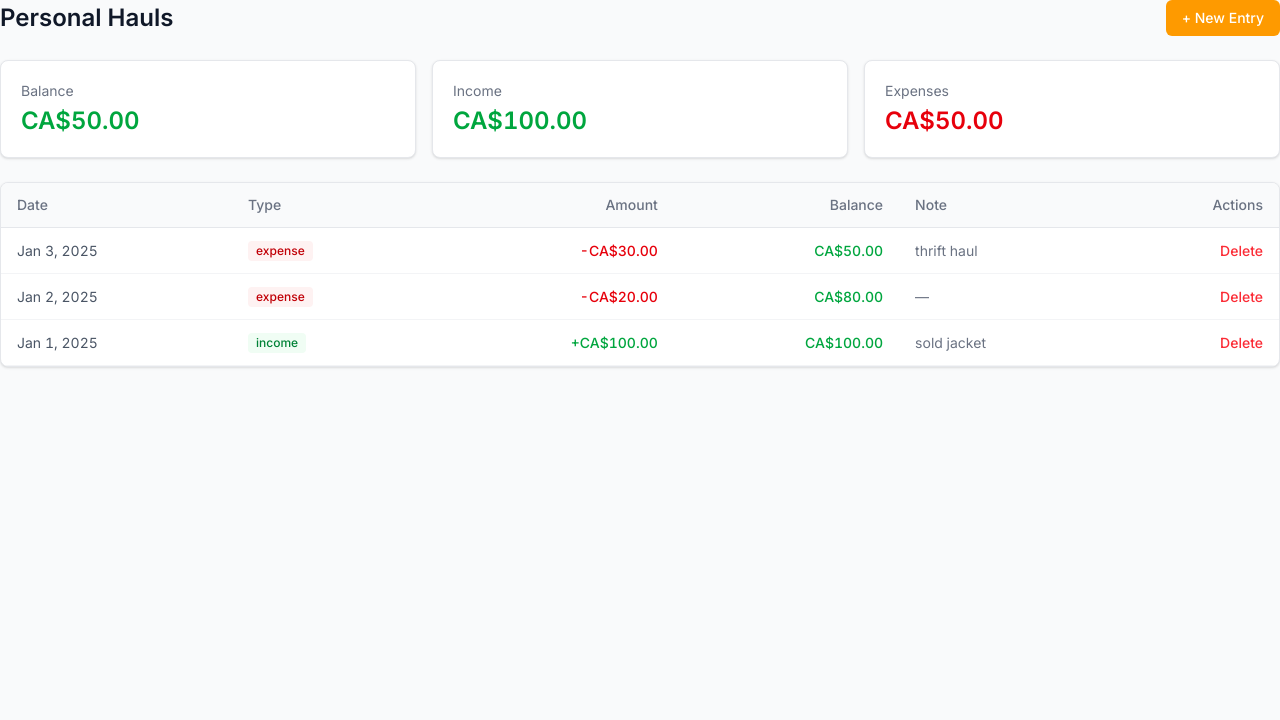
PersonalHaulsPage › validates the amount inline
Expected: the text "thrift haul" is shown, [899,228,1110,274]
Click the button "+ New Entry" at (1223, 18), box [1166,0,1279,36]
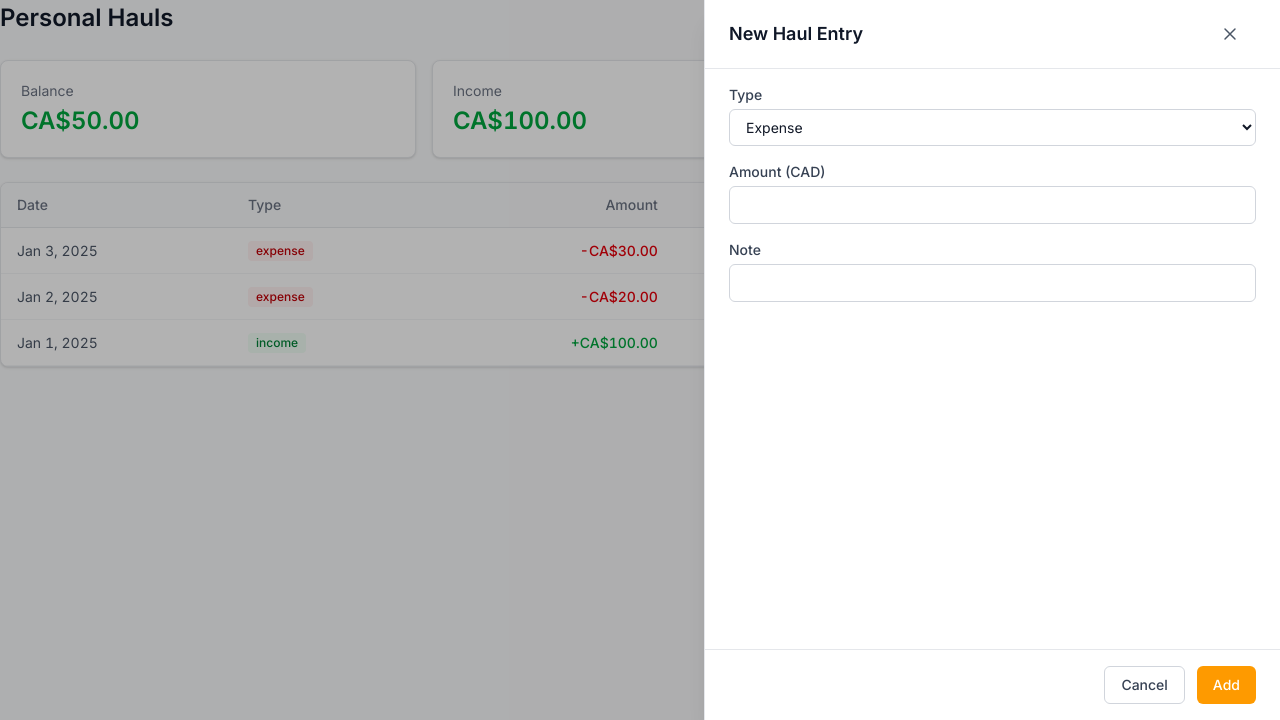
Click the button "Add" at (1226, 685), box [1197,666,1256,704]
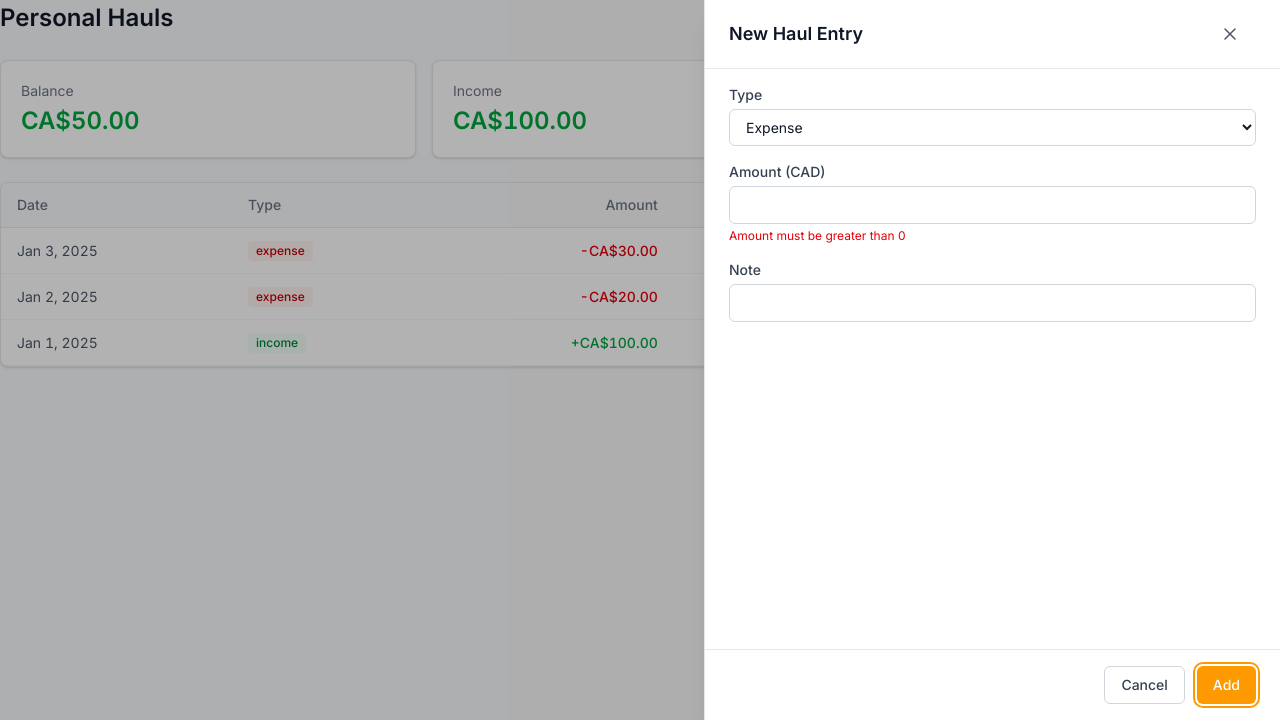
Expected: the text "Amount must be greater than 0" is shown, [729,228,906,243]
